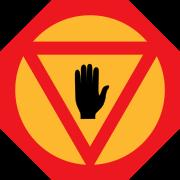Stop: (4, 7, 171, 169)
